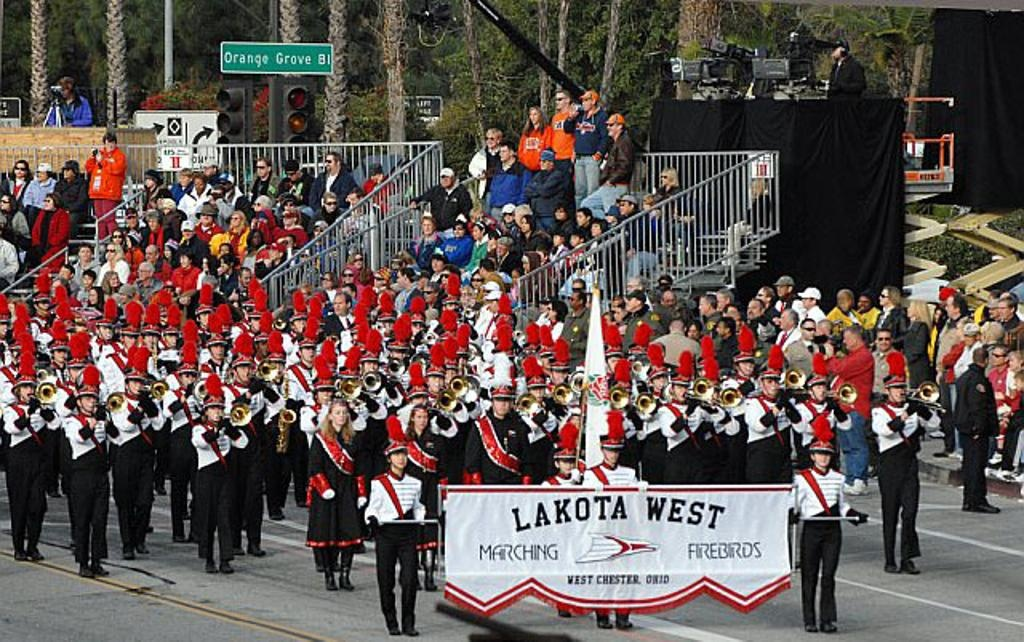human_face: (493, 392, 511, 414), (722, 308, 740, 328), (236, 360, 252, 382), (70, 361, 86, 383), (763, 375, 779, 395), (390, 448, 406, 468), (292, 314, 308, 334), (80, 390, 96, 410), (18, 379, 34, 399), (72, 318, 88, 338), (738, 356, 754, 374), (362, 358, 378, 376), (428, 370, 442, 390), (270, 356, 284, 376), (257, 335, 271, 355), (122, 330, 136, 350), (208, 402, 222, 421), (558, 454, 572, 473), (814, 449, 830, 465), (624, 294, 640, 310), (316, 384, 332, 400), (810, 383, 824, 401), (607, 354, 621, 372), (529, 382, 543, 400), (414, 410, 428, 428), (412, 391, 426, 409), (331, 406, 345, 424), (342, 372, 356, 390), (552, 364, 566, 382), (541, 350, 555, 368), (181, 368, 195, 386), (128, 374, 142, 392), (211, 340, 225, 358), (199, 308, 213, 326), (443, 368, 457, 386), (876, 333, 890, 349), (888, 383, 902, 399), (842, 332, 856, 348), (652, 372, 666, 388), (444, 300, 458, 316), (390, 344, 404, 360), (301, 344, 315, 360), (52, 344, 66, 360), (604, 444, 618, 460), (674, 382, 686, 400), (382, 314, 394, 332), (334, 296, 346, 314), (98, 322, 110, 340), (144, 330, 156, 348), (836, 294, 850, 308), (746, 302, 760, 316), (998, 302, 1010, 318), (803, 323, 815, 339), (754, 288, 766, 304), (614, 306, 626, 322), (554, 92, 566, 108), (441, 270, 453, 286), (250, 314, 262, 330), (268, 244, 280, 260), (200, 208, 212, 223), (988, 303, 1000, 317), (944, 300, 956, 314), (779, 314, 791, 328), (776, 282, 788, 296), (663, 296, 675, 310), (571, 282, 583, 296), (422, 220, 434, 234), (606, 120, 618, 134), (431, 257, 443, 271), (422, 286, 434, 300), (410, 318, 422, 332), (166, 330, 178, 344), (37, 296, 49, 310), (256, 161, 268, 175), (832, 44, 844, 58), (992, 348, 1002, 364), (687, 325, 697, 341), (714, 294, 724, 310), (240, 270, 250, 286), (601, 314, 611, 330), (540, 154, 550, 169), (324, 155, 334, 170), (568, 294, 580, 306), (453, 224, 465, 236), (440, 173, 452, 185), (58, 268, 70, 280), (178, 254, 190, 266), (78, 247, 90, 259), (146, 216, 158, 228), (282, 212, 294, 224), (136, 267, 148, 279), (963, 331, 973, 345), (878, 291, 888, 305), (858, 296, 868, 310), (698, 300, 708, 314), (618, 200, 628, 214), (606, 215, 616, 229), (499, 146, 509, 160), (486, 132, 496, 146), (582, 96, 592, 110), (471, 274, 481, 288), (488, 296, 498, 310), (483, 286, 493, 300), (344, 269, 354, 283), (321, 274, 331, 288), (374, 274, 384, 288), (51, 282, 61, 296), (325, 198, 335, 212), (219, 176, 229, 190), (816, 323, 826, 337), (202, 164, 212, 178), (590, 222, 602, 233), (555, 206, 565, 219), (126, 212, 136, 225), (182, 224, 192, 237), (58, 83, 68, 96), (0, 320, 9, 334), (1008, 356, 1018, 368), (801, 294, 811, 306), (716, 322, 726, 334), (662, 172, 672, 184), (576, 212, 586, 224), (503, 210, 513, 222), (472, 226, 482, 238), (529, 110, 539, 122), (396, 273, 406, 285), (108, 274, 118, 286), (82, 274, 92, 286), (144, 248, 154, 260), (105, 247, 115, 259), (254, 198, 264, 210), (283, 198, 293, 210), (314, 226, 324, 238), (63, 166, 73, 178), (43, 197, 53, 209), (104, 138, 114, 150), (36, 168, 46, 180), (14, 164, 26, 174), (391, 259, 401, 271), (538, 300, 548, 312), (220, 245, 230, 257), (546, 306, 554, 320), (350, 194, 358, 208), (660, 279, 668, 293), (352, 254, 360, 268), (287, 168, 297, 179), (178, 172, 188, 183), (282, 236, 292, 247), (251, 230, 259, 243), (342, 288, 352, 298), (221, 258, 231, 268), (163, 246, 173, 256), (145, 175, 155, 185), (906, 304, 914, 316), (752, 182, 760, 194), (522, 258, 530, 270), (536, 251, 544, 263), (521, 219, 529, 231), (88, 290, 96, 302), (202, 258, 210, 270), (370, 170, 378, 182), (194, 179, 202, 191), (1014, 378, 1022, 390), (643, 200, 651, 211), (553, 234, 561, 245), (498, 242, 506, 253), (0, 196, 8, 207), (570, 235, 578, 245), (512, 272, 520, 282), (112, 232, 120, 242), (230, 214, 238, 224), (488, 234, 494, 245), (279, 240, 287, 248), (934, 311, 940, 321)
